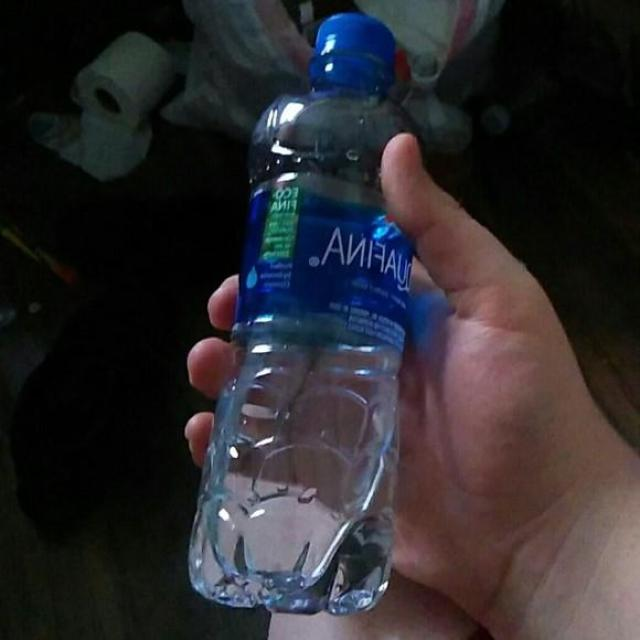bottle: (181, 6, 418, 620)
